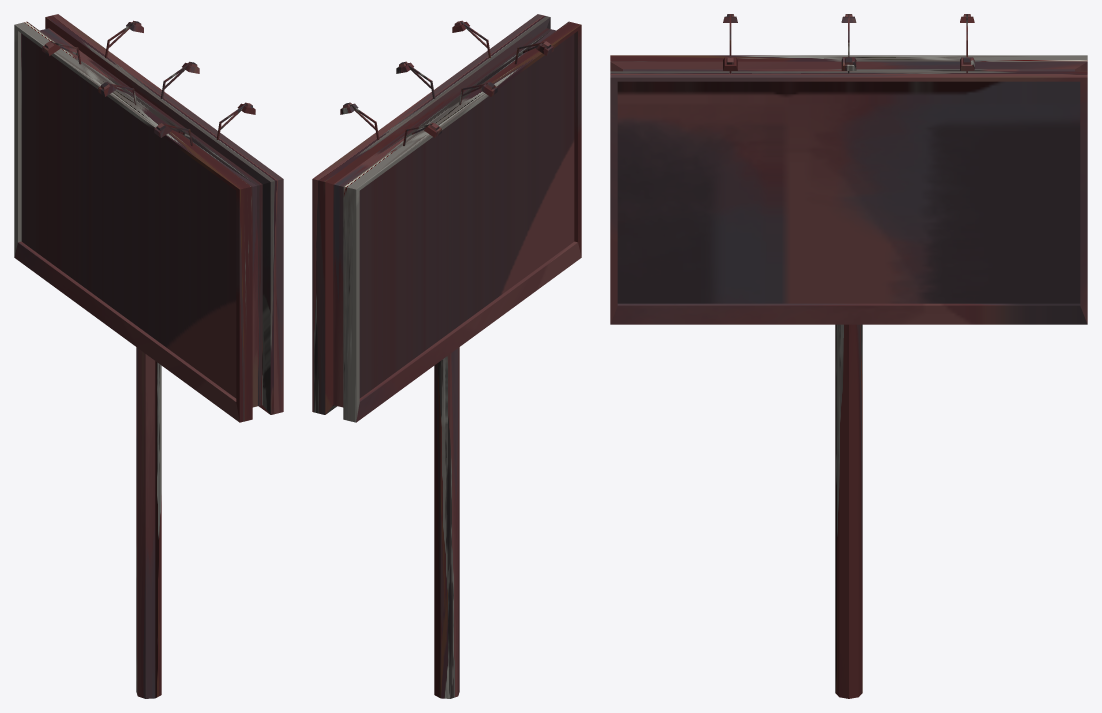
File: billboard.fbx
The picture shows the model from 3 angles, left to right: view 1: azimuth 30°, elevation 25°; view 2: azimuth 150°, elevation 25°; view 3: azimuth 270°, elevation 25°; orthographic projection. The views are drawn at different scales.
Parts seen in each view (by area): view 1: billboard; view 2: billboard; view 3: billboard.
Part boxes in pixels (x1,y1,x2,y2): billboard: [14, 14, 283, 698]; billboard: [312, 14, 581, 698]; billboard: [610, 14, 1087, 698].
Bounding box in the file's own units: 634 × 3925 × 2583.
